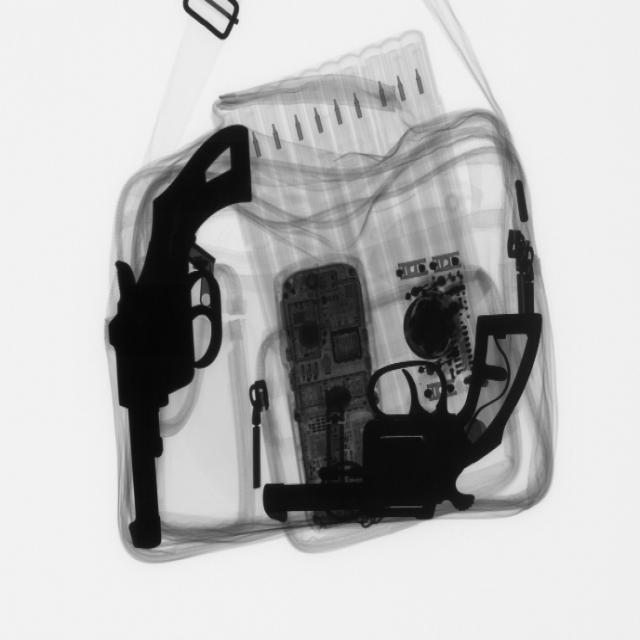GUN: (259, 300, 541, 529), (101, 116, 245, 550)
